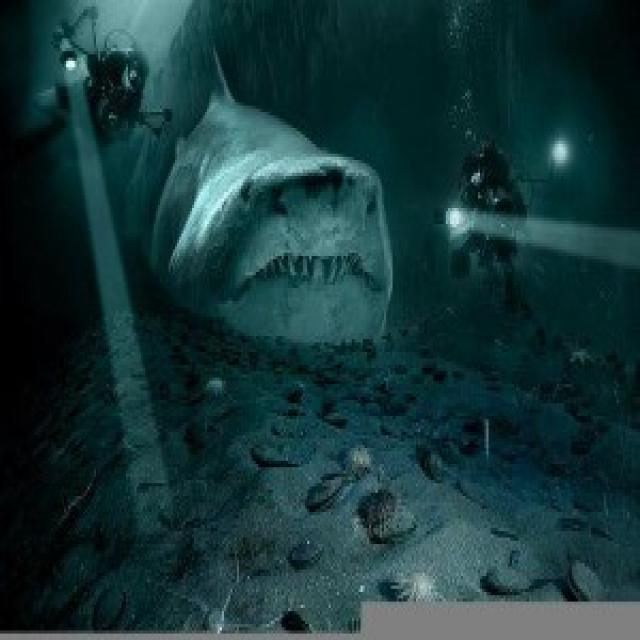Shark: (152, 32, 400, 351)
